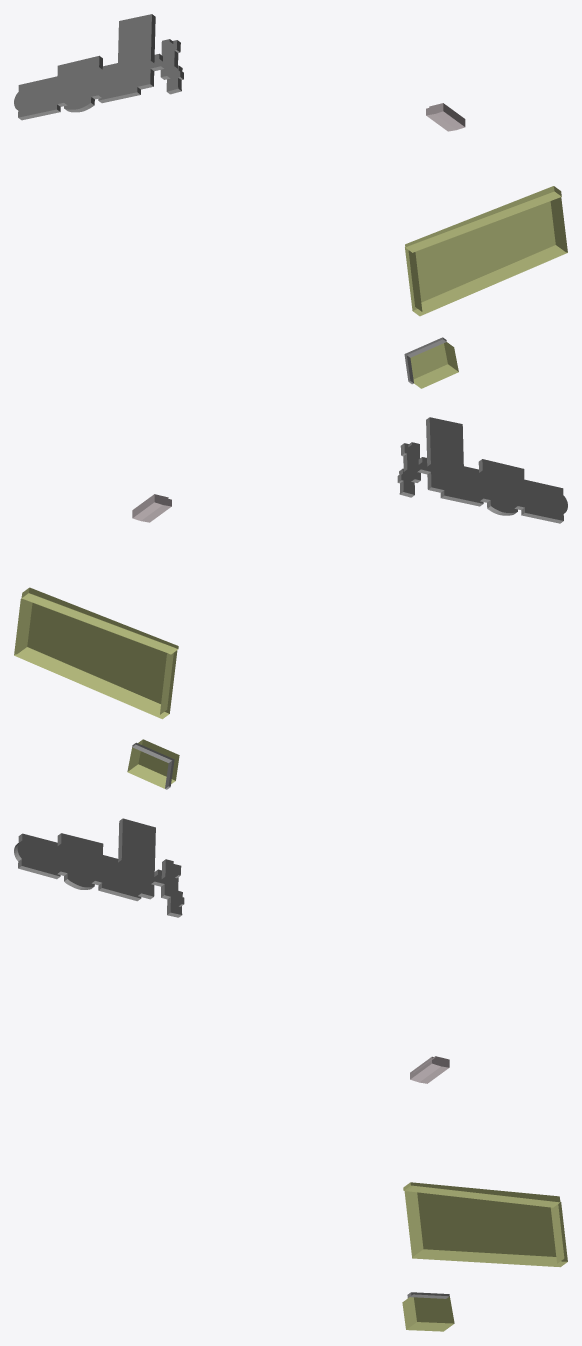
3 renders of one model, top to bottom at view 1: azimuth 30°, elevation 25°; view 2: azimuth 150°, elevation 25°; view 3: azimuth 330°, elevation 25°, orthographic.
Parts seen in each view (by area): view 1: 0_2_0_1_2_2; view 2: 0_2_0_1_2_2; view 3: 0_2_0_1_2_2.
Boxes of the visible parts, <box> form: 0_2_0_1_2_2: <box>14,14,567,388</box>; 0_2_0_1_2_2: <box>14,417,567,789</box>; 0_2_0_1_2_2: <box>14,818,567,1331</box>.
Bounding box in the file's own units: 259 × 195 × 19.46.
